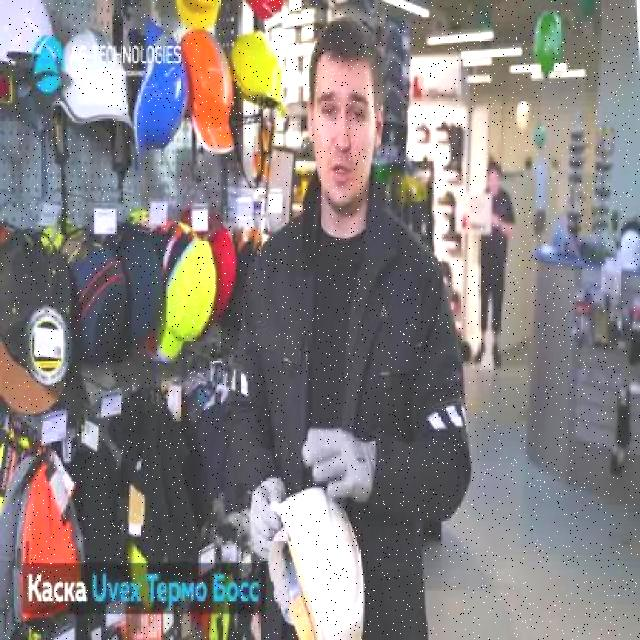Gloves: (302, 424, 376, 504), (248, 476, 287, 562)
Helmet: (268, 484, 370, 638), (133, 16, 190, 172), (49, 27, 134, 128), (180, 26, 234, 152), (0, 0, 69, 78), (226, 32, 286, 118)
